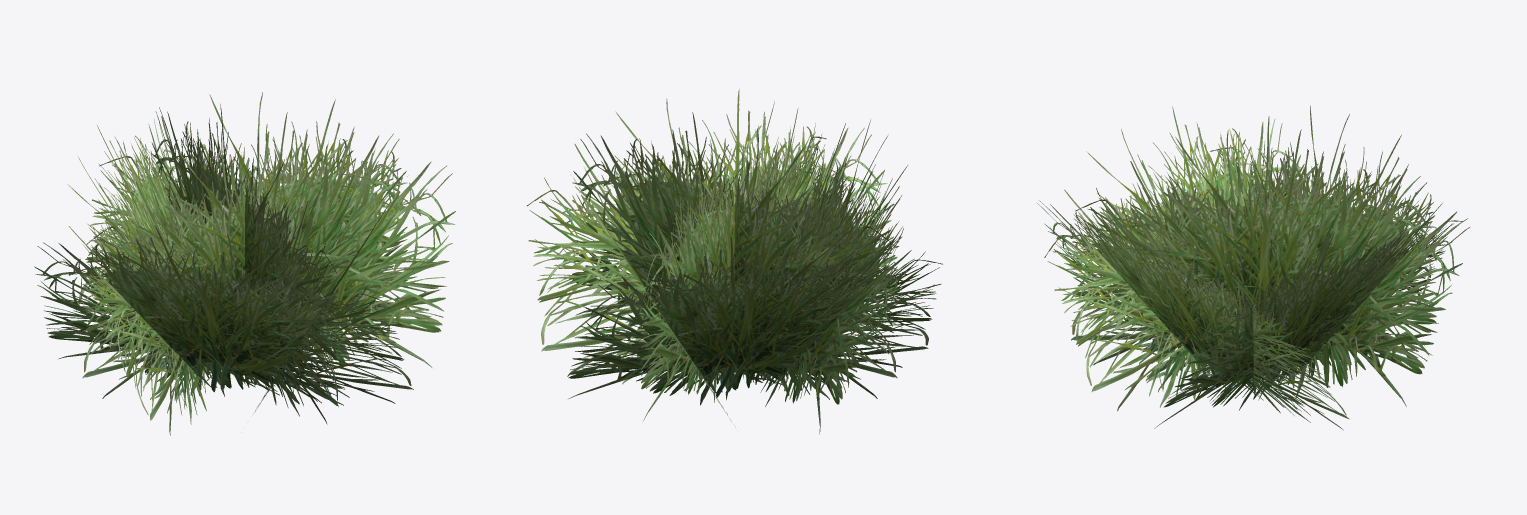
The model's file is grass2.FBX.
3 views of the same model, side by side, from view 1: azimuth 30°, elevation 25°; view 2: azimuth 150°, elevation 25°; view 3: azimuth 270°, elevation 25° (orthographic). The views are drawn at different scales.
Parts seen in each view (by area): view 1: grass2; view 2: grass2; view 3: grass2.
Boxes of the visible parts, x1,y1,x2,y2 form: grass2: (34, 92, 455, 435); grass2: (527, 89, 942, 434); grass2: (1037, 105, 1469, 430).
Size of the model in its own units: 141 by 100 by 141.
